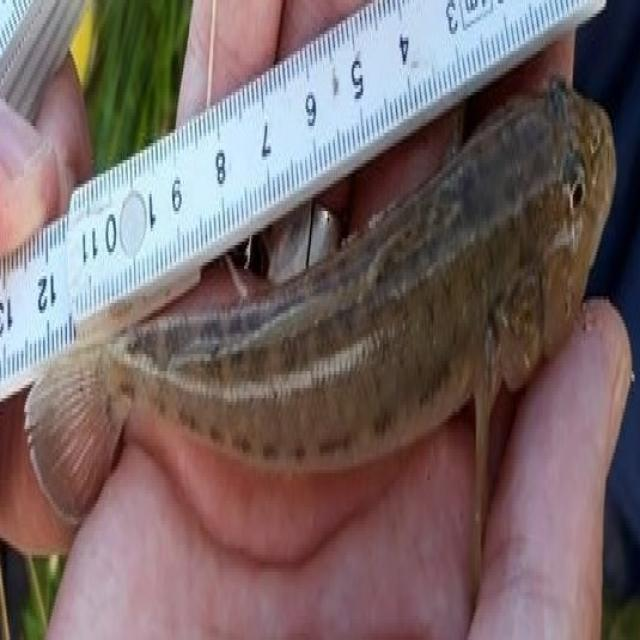Goby: (29, 96, 624, 606)
